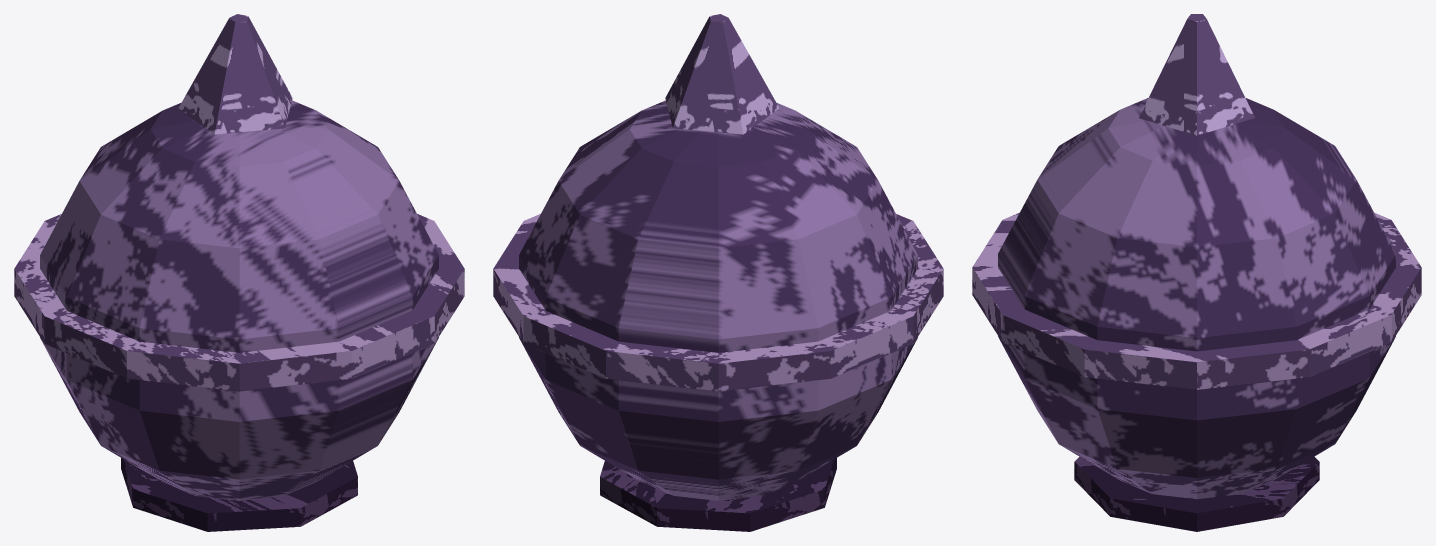
File: umbrite_item.glb
3 renders of one model, left to right at view 1: azimuth 30°, elevation 25°; view 2: azimuth 150°, elevation 25°; view 3: azimuth 270°, elevation 25°, orthographic.
Parts seen in each view (by area): view 1: ShadowOrb, GlowRing, Wisp, ShadowBase; view 2: ShadowOrb, GlowRing, Wisp, ShadowBase; view 3: ShadowOrb, GlowRing, ShadowBase, Wisp.
Boxes of the visible parts, bbox=[...] form: ShadowOrb: bbox=[40, 100, 438, 500]; GlowRing: bbox=[14, 214, 464, 391]; Wisp: bbox=[178, 14, 292, 134]; ShadowBase: bbox=[121, 458, 357, 531]; ShadowOrb: bbox=[519, 100, 917, 500]; GlowRing: bbox=[493, 214, 943, 391]; Wisp: bbox=[665, 14, 779, 134]; ShadowBase: bbox=[600, 458, 836, 531]; ShadowOrb: bbox=[998, 98, 1395, 499]; GlowRing: bbox=[972, 212, 1421, 389]; ShadowBase: bbox=[1074, 456, 1319, 531]; Wisp: bbox=[1139, 14, 1254, 135].
Size of the model in its own units: 0.22 by 0.25 by 0.22.
4 materials, 4 textured.
